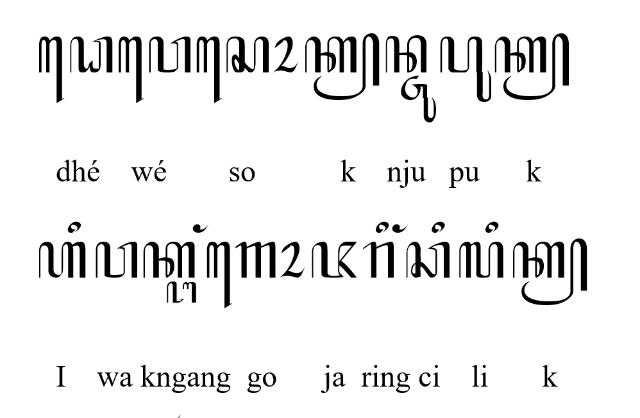-k: (512, 236, 588, 306), (494, 31, 570, 100), (304, 33, 380, 101)
_ju: (400, 75, 436, 123)
c: (406, 241, 450, 279)
dh: (69, 35, 113, 73)
e1: (37, 37, 64, 105), (118, 36, 144, 104), (197, 36, 223, 104), (206, 241, 232, 309)
g: (236, 240, 276, 280)
h: (38, 242, 86, 278)
i: (66, 220, 82, 234), (431, 220, 445, 233), (376, 220, 388, 234), (486, 219, 498, 233)
j: (311, 241, 357, 279)
k: (144, 242, 196, 278)
l: (459, 242, 505, 278)
n: (384, 33, 428, 73)
ng: (392, 223, 410, 233), (193, 223, 209, 233)
nga: (166, 280, 197, 304)
o: (280, 240, 304, 278), (274, 36, 298, 72)
pu: (440, 35, 492, 103)
r: (362, 241, 396, 279)
s: (227, 36, 270, 72)
w: (94, 240, 138, 280), (148, 36, 192, 72)
